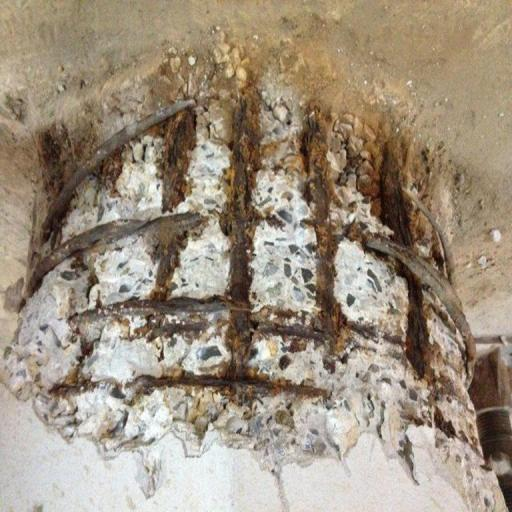spalling: (0, 57, 484, 479)
